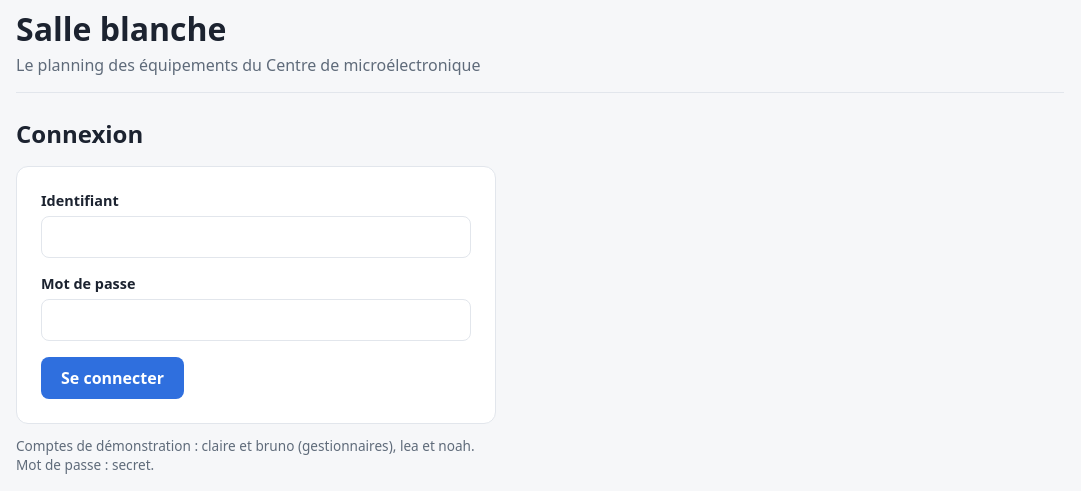
Test: Les pages protégées › reviennent à la page demandée une fois connecté
In the field labelled "Identifiant": (256, 237) [41, 216, 471, 258], type "lea"
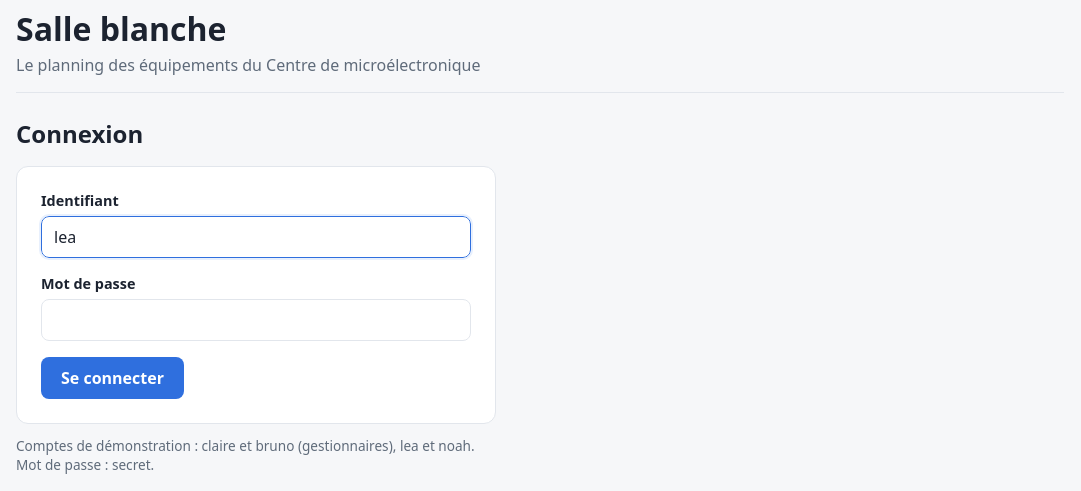
In the password field labelled "Mot de passe": (256, 320) [41, 299, 471, 341], type "secret"
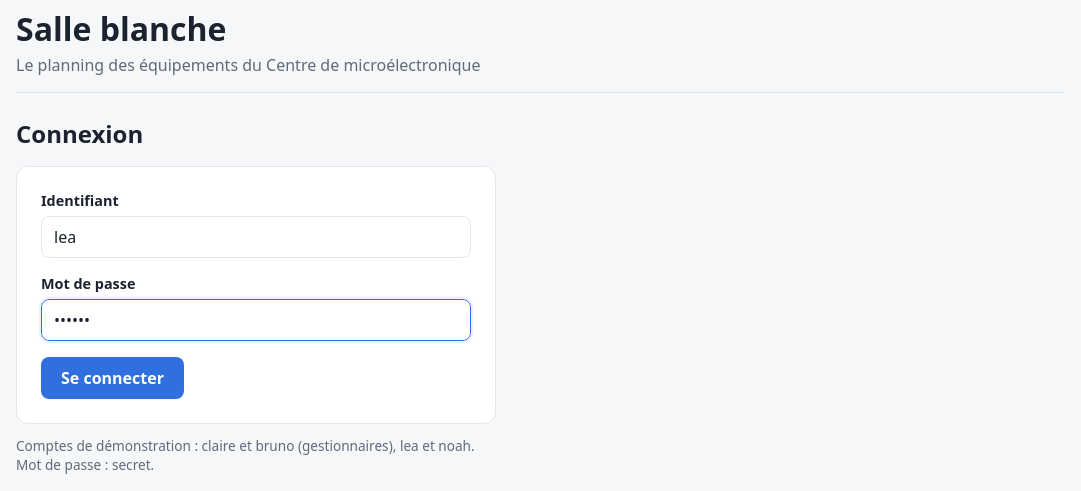
Click the button "Se connecter": (112, 378) [41, 357, 184, 399]
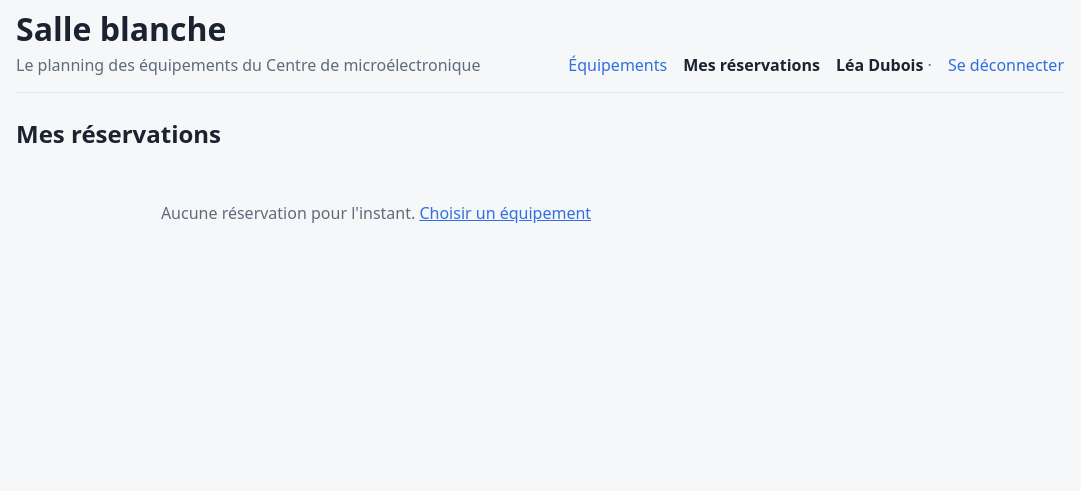
Now the heading "Mes réservations" is shown, box [16, 117, 221, 150]
